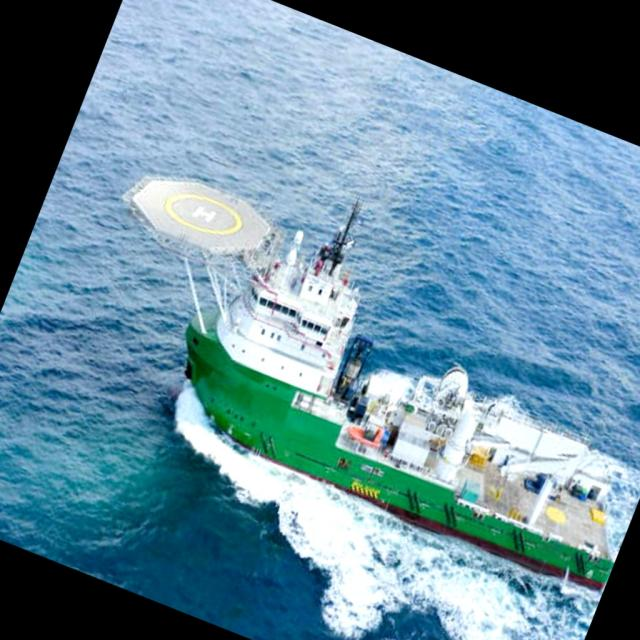helipad: (161, 190, 244, 238)
